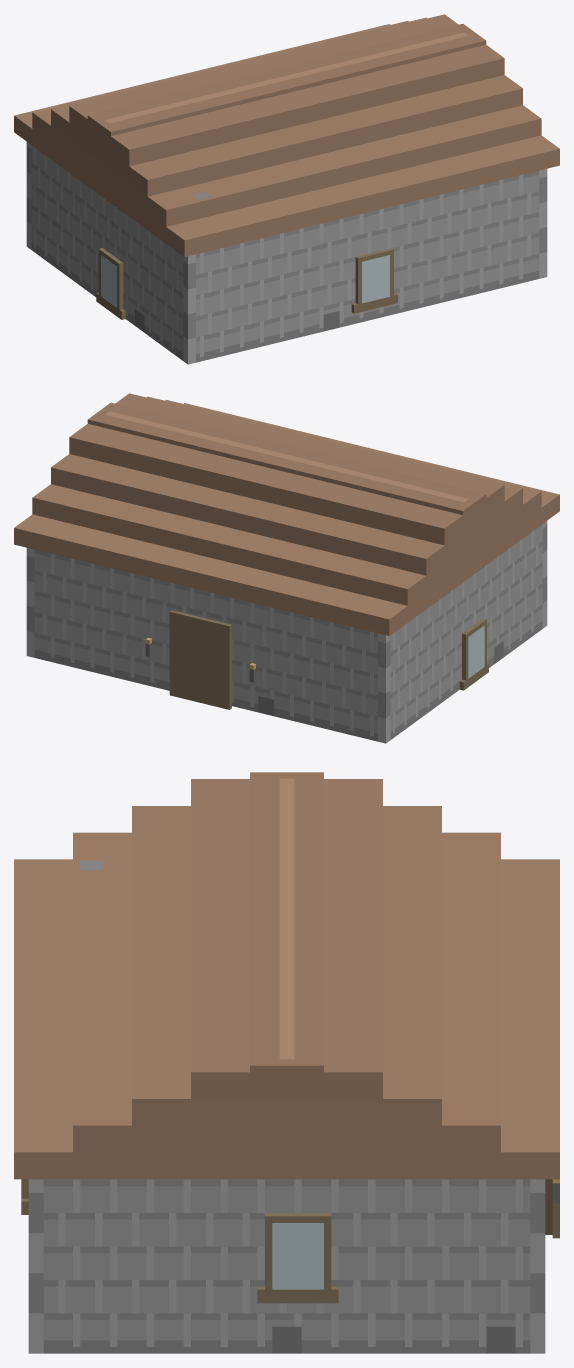
File: lonja_pescado_02.glb
3 views of the same model, one above another, from view 1: azimuth 30°, elevation 25°; view 2: azimuth 150°, elevation 25°; view 3: azimuth 270°, elevation 25° (orthographic). The views are drawn at different scales.
Visible parts, largest first — view 1: lonja_pescado_02; view 2: lonja_pescado_02; view 3: lonja_pescado_02.
Part boxes in pixels (x1,y1,x2,y2): lonja_pescado_02: [14, 14, 559, 364]; lonja_pescado_02: [14, 393, 559, 743]; lonja_pescado_02: [14, 772, 559, 1353].
Size of the model in its own units: 9.4 by 4.4 by 7.4.
